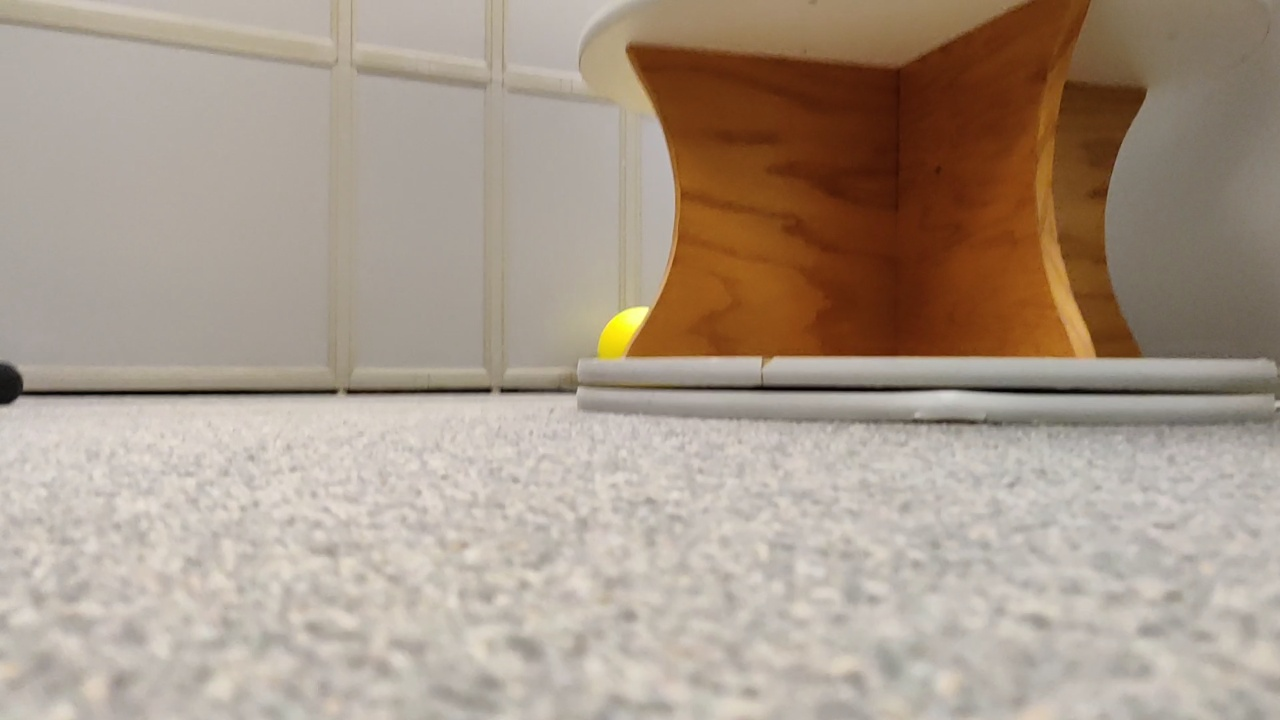Ball: (596, 304, 644, 364)
